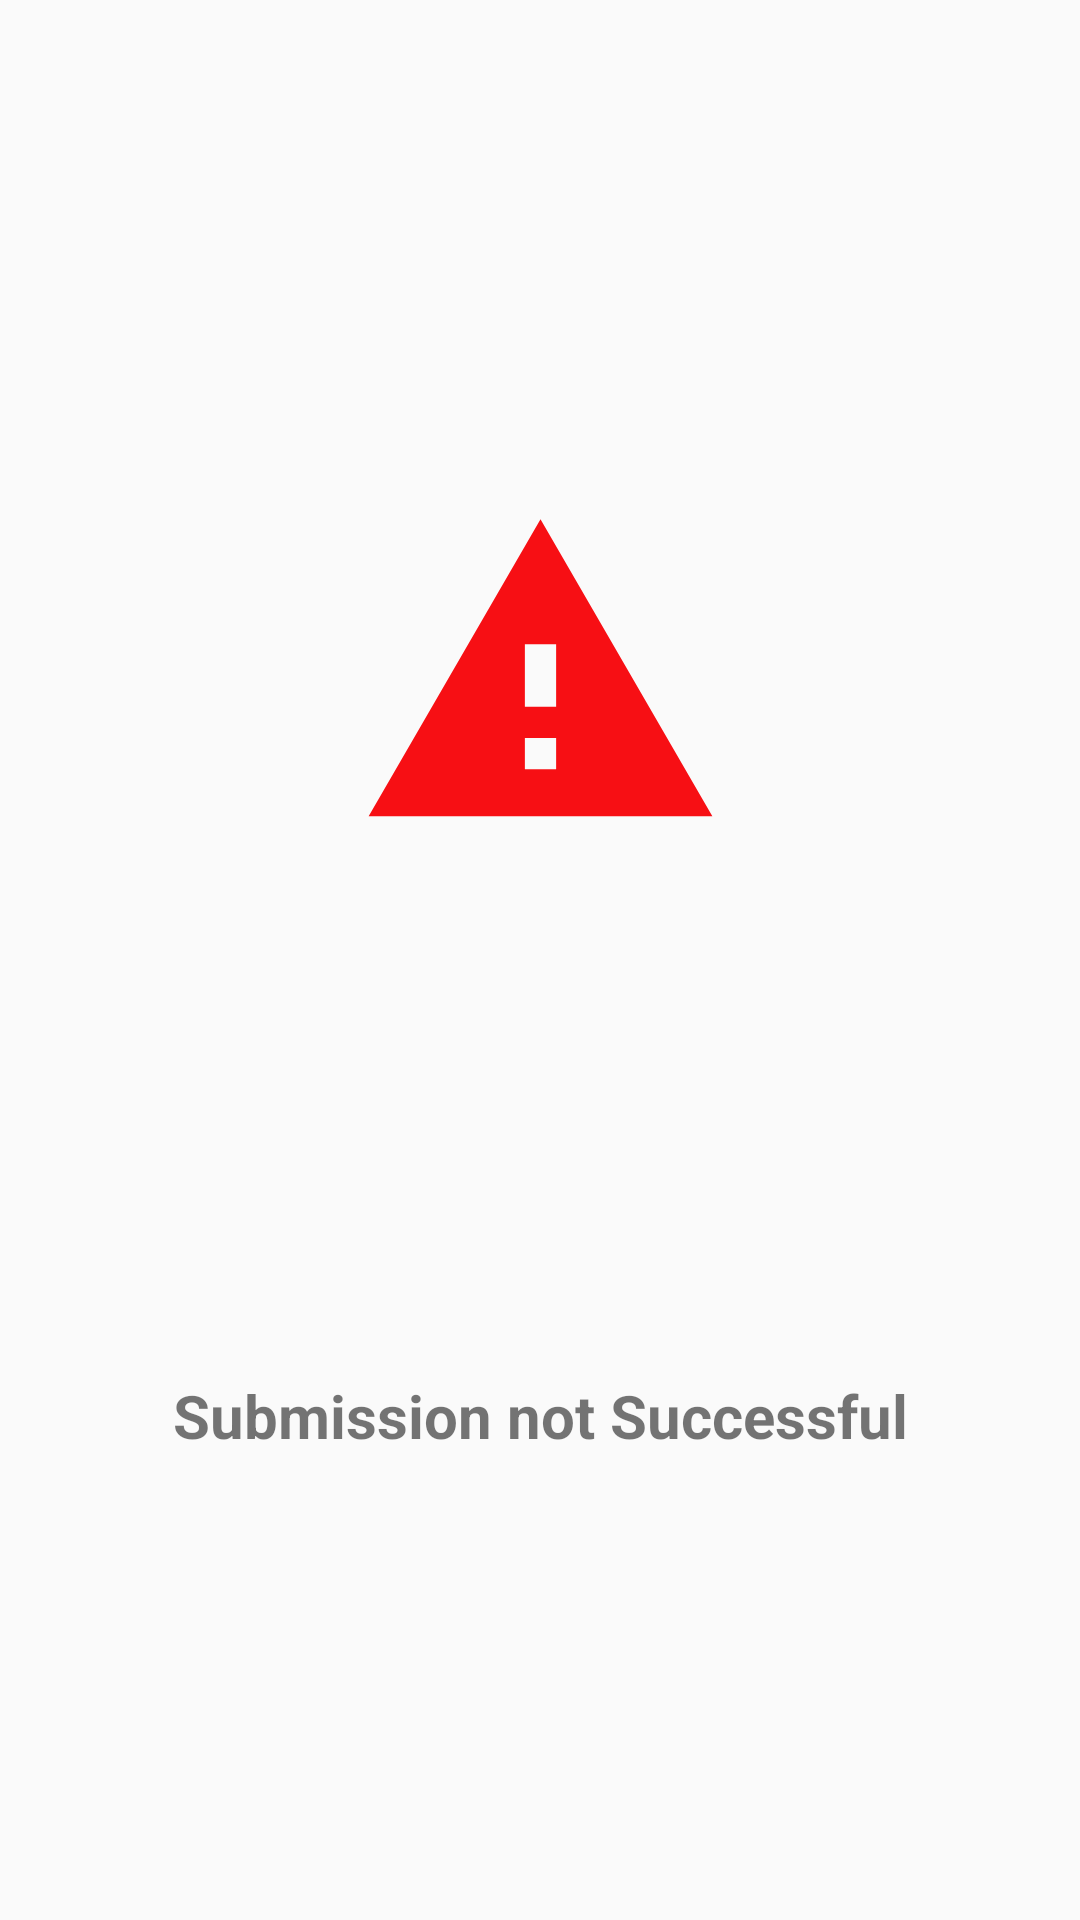

Icon click points for this 1080px×1920px phone screenshot, format [x,y]:
warning: [540,668]
